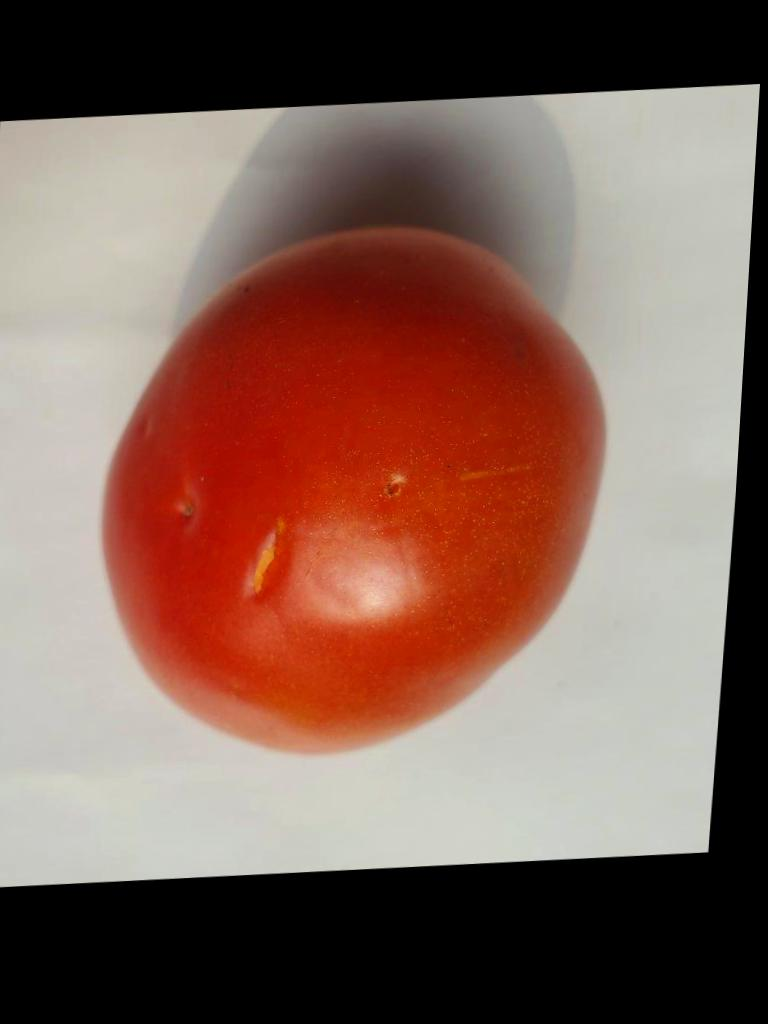surface_damage: (249, 526, 277, 598), (385, 482, 399, 496)
tomato: (103, 227, 602, 751)
